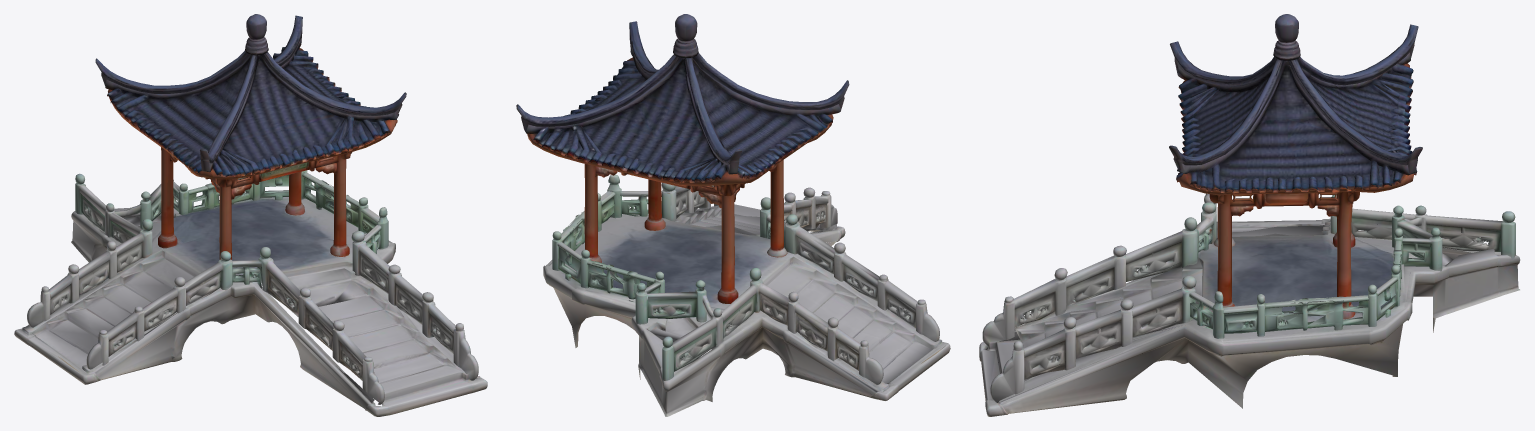
Rendered from hangzhou.glb.
3 renders of one model, left to right at view 1: azimuth 30°, elevation 25°; view 2: azimuth 150°, elevation 25°; view 3: azimuth 270°, elevation 25°, orthographic. The views are drawn at different scales.
Parts seen in each view (by area): view 1: tripo_node_0e308cc2-d46b-4be5-8c9e-b999301d6822; view 2: tripo_node_0e308cc2-d46b-4be5-8c9e-b999301d6822; view 3: tripo_node_0e308cc2-d46b-4be5-8c9e-b999301d6822.
Boxes of the visible parts, x1=… form: tripo_node_0e308cc2-d46b-4be5-8c9e-b999301d6822: x1=14, y1=14, x2=487, y2=416; tripo_node_0e308cc2-d46b-4be5-8c9e-b999301d6822: x1=516, y1=14, x2=950, y2=416; tripo_node_0e308cc2-d46b-4be5-8c9e-b999301d6822: x1=979, y1=14, x2=1520, y2=416.
Bounding box in the file's own units: 0.7974 × 0.7065 × 0.9995.
1 material, 1 textured.
